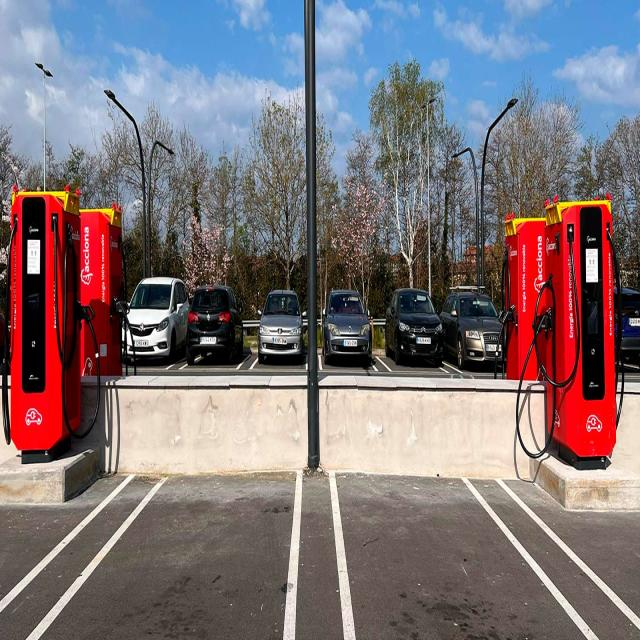libre: (26, 445, 296, 637), (336, 459, 580, 635)
ocupado: (381, 277, 449, 374), (446, 282, 511, 378), (256, 270, 308, 380), (126, 276, 186, 366), (187, 277, 246, 368), (325, 280, 373, 368), (611, 283, 640, 376)
